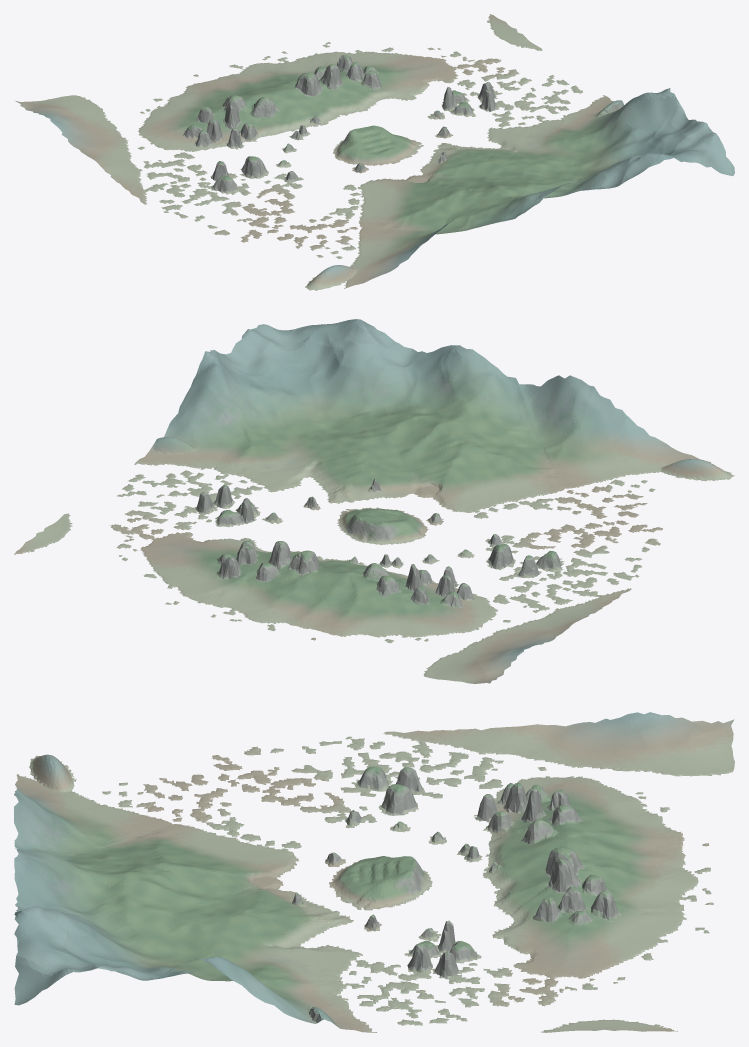
File: sect_shuiying_ground.glb
3 views of the same model, one above another, from view 1: azimuth 30°, elevation 25°; view 2: azimuth 150°, elevation 25°; view 3: azimuth 270°, elevation 25° (orthographic). The views are drawn at different scales.
Parts seen in each view (by area): view 1: ground; view 2: ground; view 3: ground.
Part boxes in pixels (x1,y1,x2,y2): ground: (15, 14, 734, 290); ground: (14, 319, 734, 683); ground: (14, 712, 734, 1032).
Bounding box in the file's own units: 3545 × 408 × 3582.
